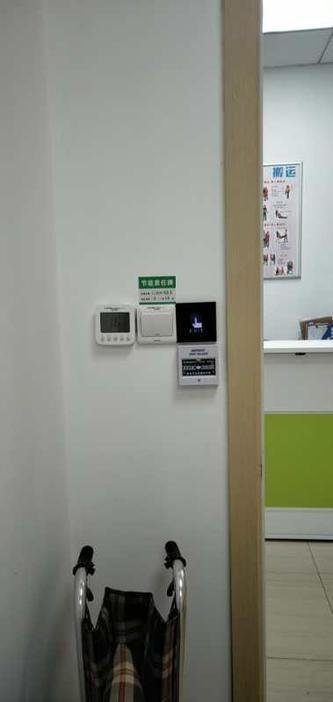switch: (139, 316, 180, 342)
